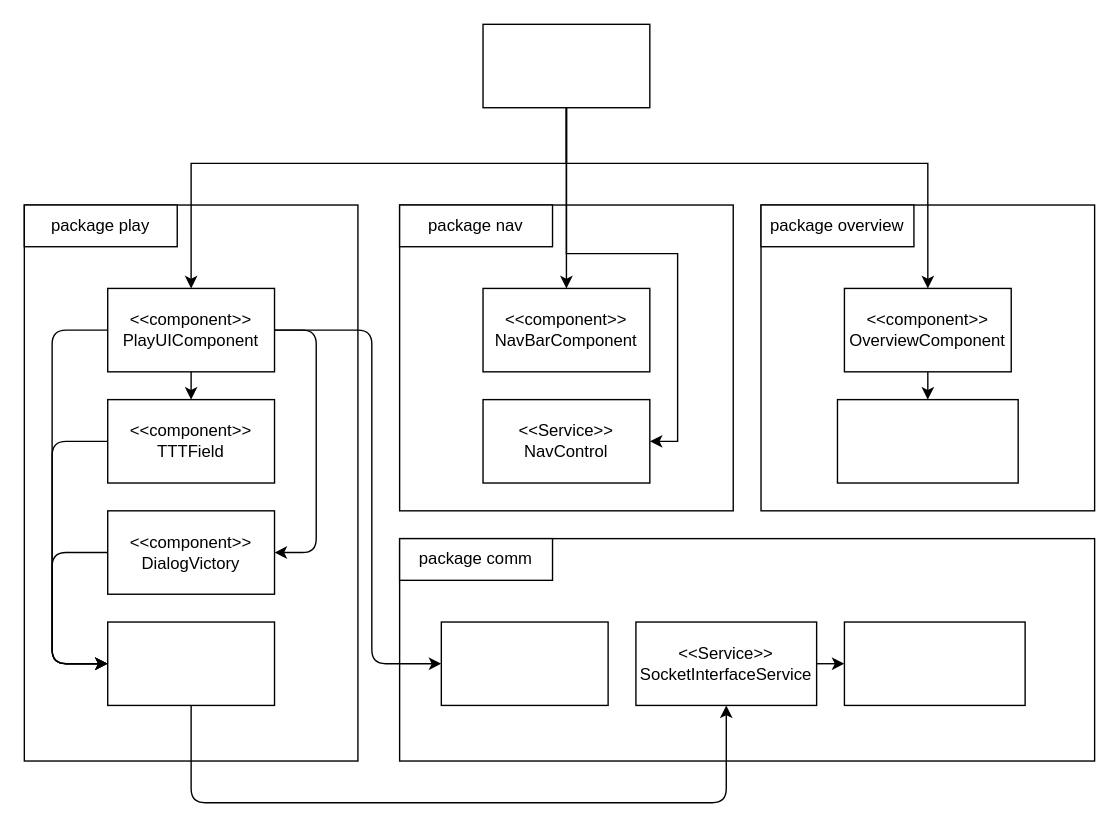
Some shapes in this 1119 by 838 pixel diagram are drawn without their labels. The shapes that lost their labels are listed below. From the top down, each one's centre as x and y in pixels, then its label:
At point (566, 65): "<<component>> AppComponent".
At point (927, 440): "<<component>> OverviewCommService".
At point (190, 663): "<<Service>> GameLogicService".
At point (524, 663): "<<Service>> MatchmakingService".
At point (934, 663): "Beans Interface Collection".
